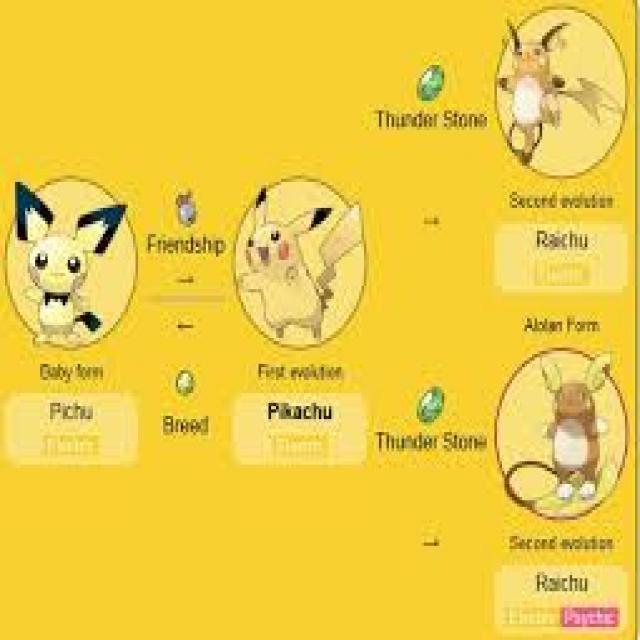pichu: (0, 160, 134, 374)
